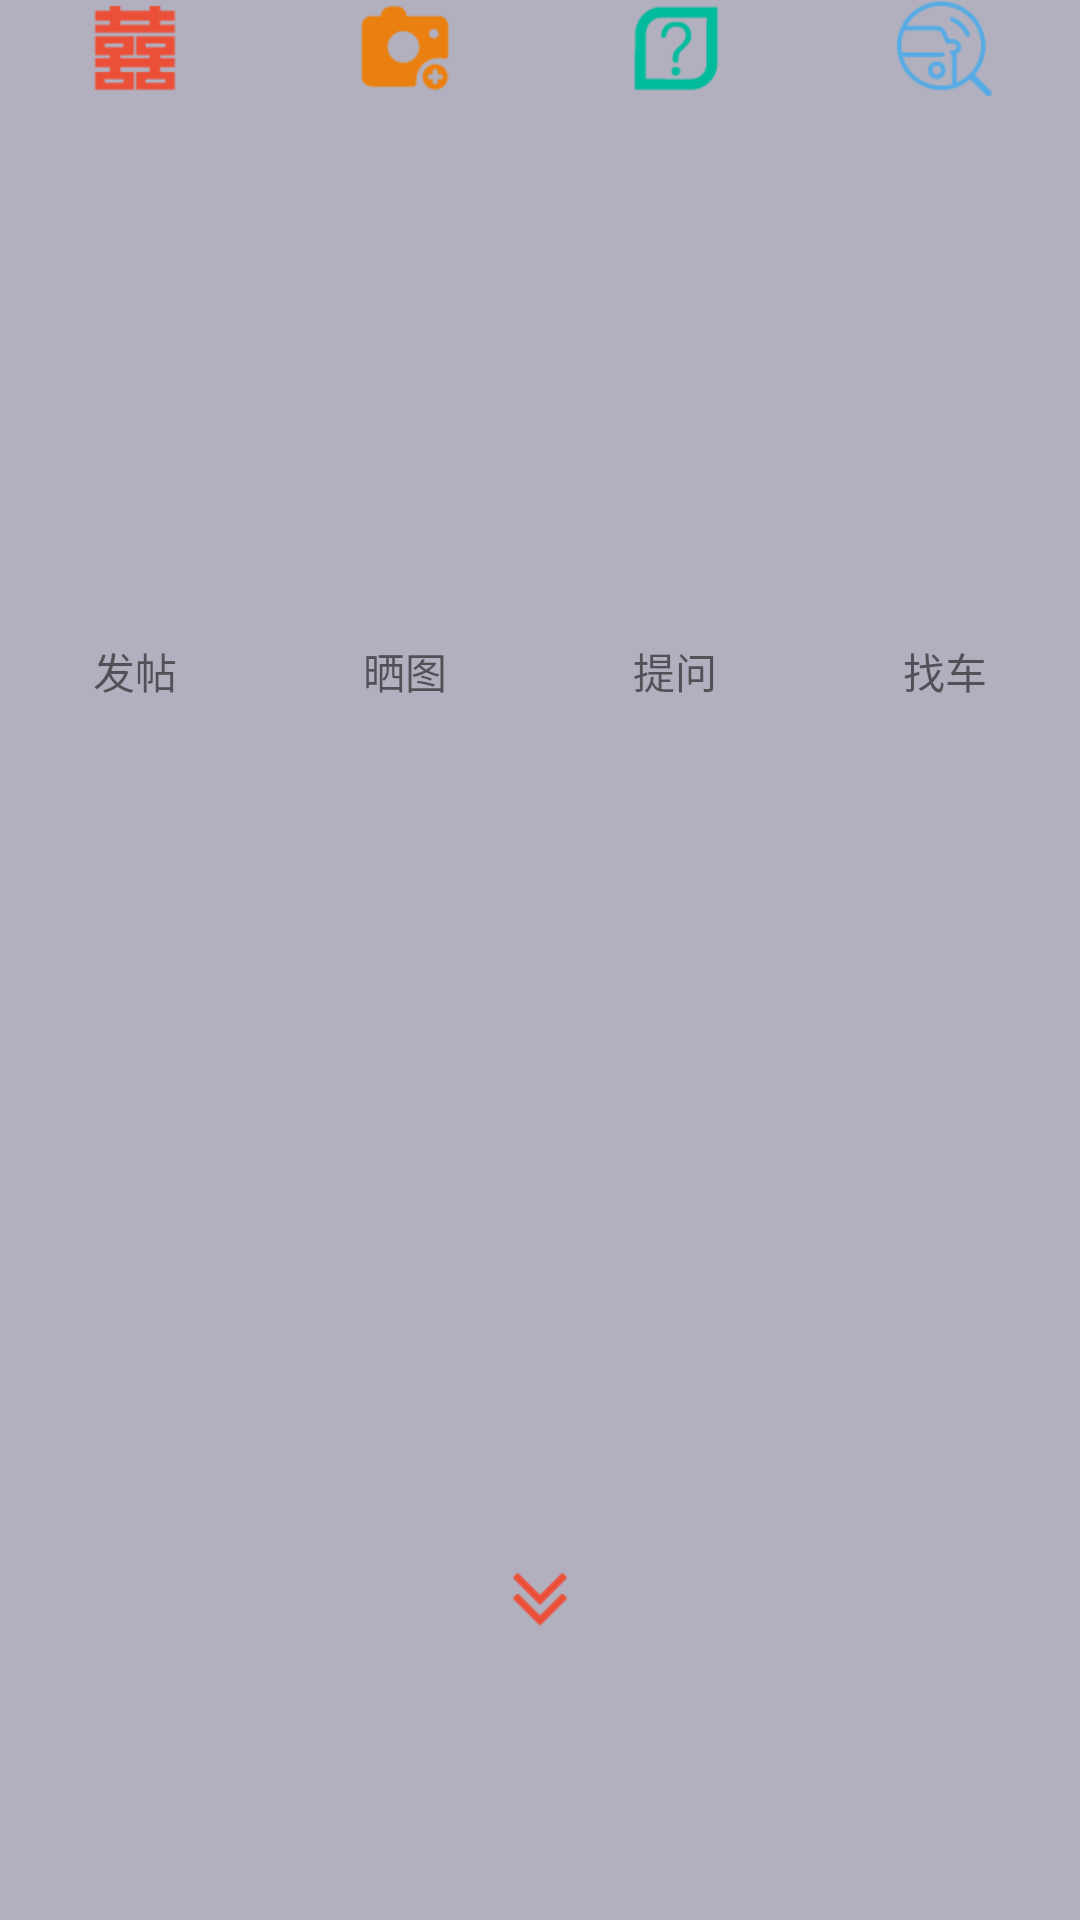

Named icons in this screenshot (1080w x 1920h) and their bounding boxes, (x1, y1, x2, y2):
popwindowimagebtn: (513, 1573, 567, 1626)
shaitutu: (361, 6, 449, 90)
tiwenen: (634, 6, 718, 90)
zhaoche: (897, 1, 992, 96)
